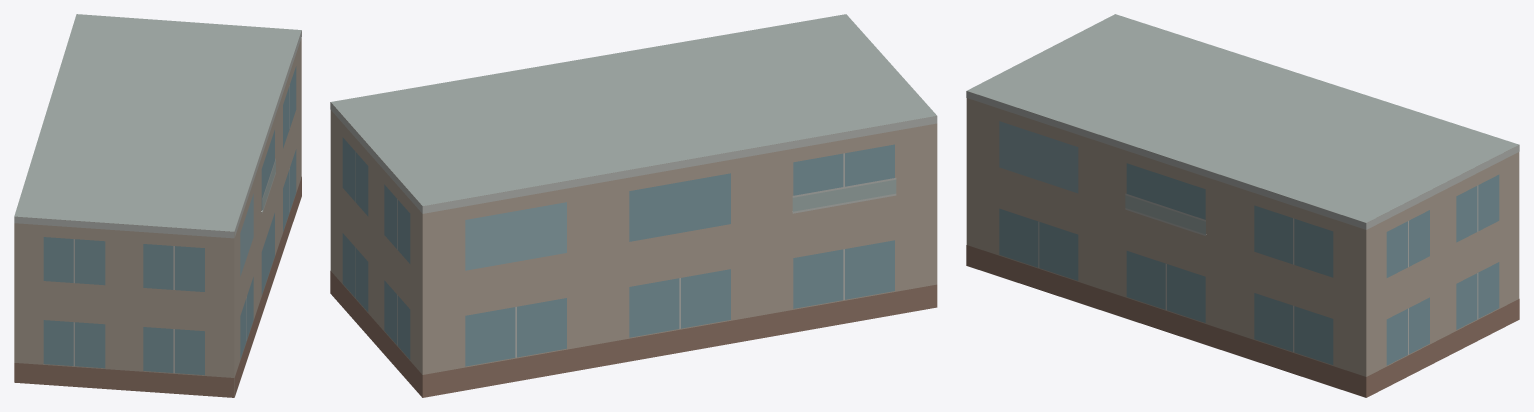
File: survey-upis-32972723.glb
3 renders of one model, left to right at view 1: azimuth 30°, elevation 25°; view 2: azimuth 150°, elevation 25°; view 3: azimuth 270°, elevation 25°, orthographic. The views are drawn at different scales.
Visible parts, largest first — view 1: survey-upis-32972723.tmp; view 2: survey-upis-32972723.tmp; view 3: survey-upis-32972723.tmp.
Boxes of the visible parts, <box> form: survey-upis-32972723.tmp: <box>14,14,301,397</box>; survey-upis-32972723.tmp: <box>330,14,937,397</box>; survey-upis-32972723.tmp: <box>966,14,1519,397</box>.
Size of the model in its own units: 15.64 by 6.1 by 17.49.
